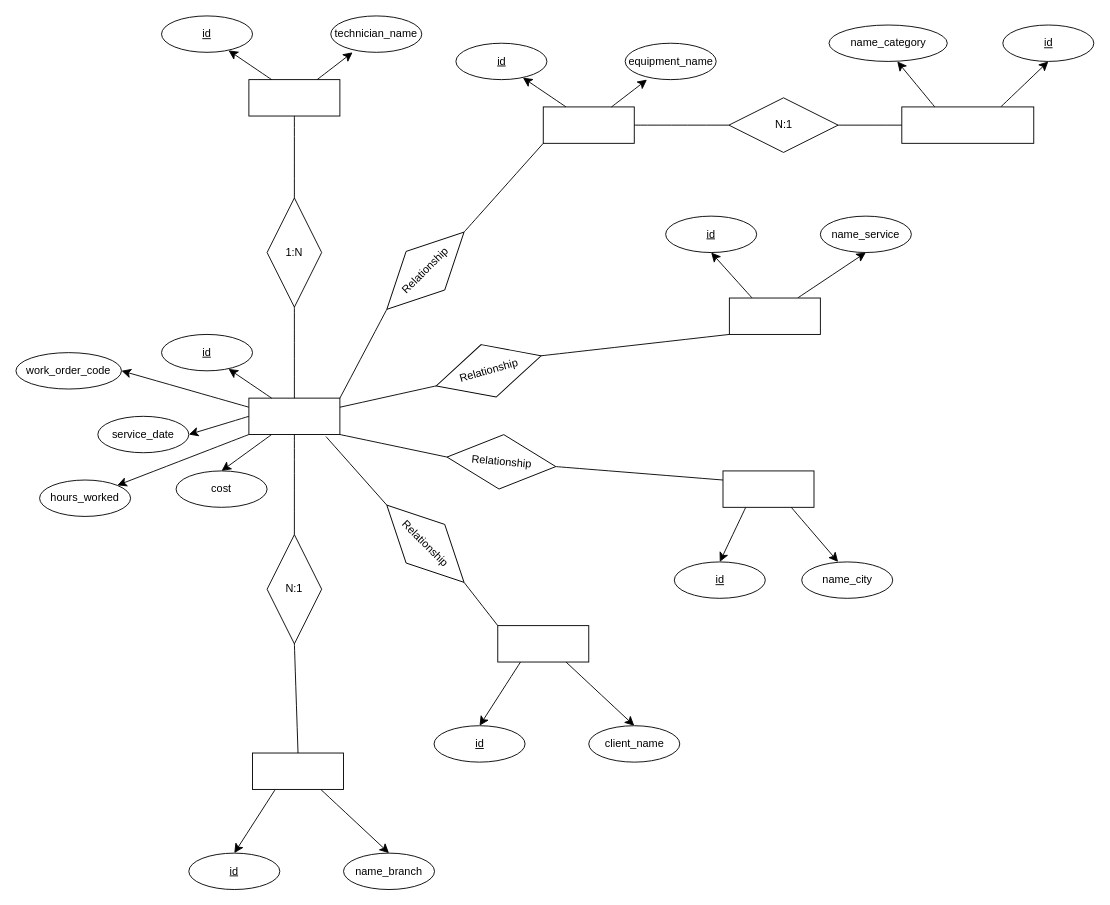
Some shapes in this 1110 by 905 pixel diagram are drawn without their labels. The centre of each missing label's shape, as x and y in pixels:
"riwi_branches" belongs at point 298,770.
"riwi_cities" belongs at point 768,488.
"riwi_clients" belongs at point 543,643.
"riwi_equipment" belongs at point 588,124.
"riwi_equipment_categories" belongs at point 967,124.
"riwi_service_type" belongs at point 774,315.
"riwi_technicians" belongs at point 294,97.
"riwi_work_orders" belongs at point 294,416.
